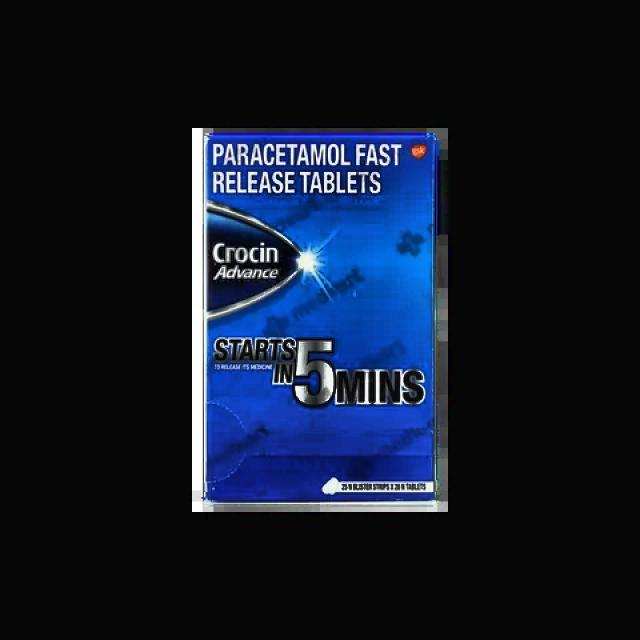Crocin: (208, 232, 322, 318)
Paracetamol: (208, 140, 412, 203)
